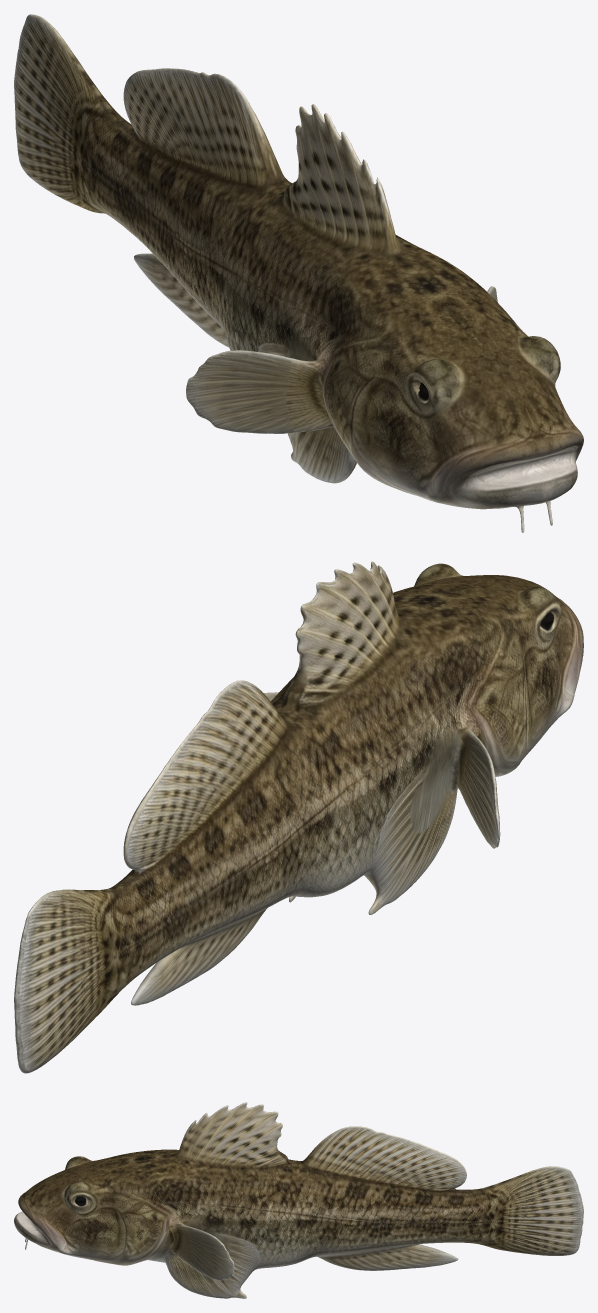
File: Gobies.glb
3 views of the same model, one above another, from view 1: azimuth 30°, elevation 25°; view 2: azimuth 150°, elevation 25°; view 3: azimuth 270°, elevation 25° (orthographic). The views are drawn at different scales.
Size of the model in its own units: 0.6442 by 0.677 by 1.9.
1 material, 1 textured.
